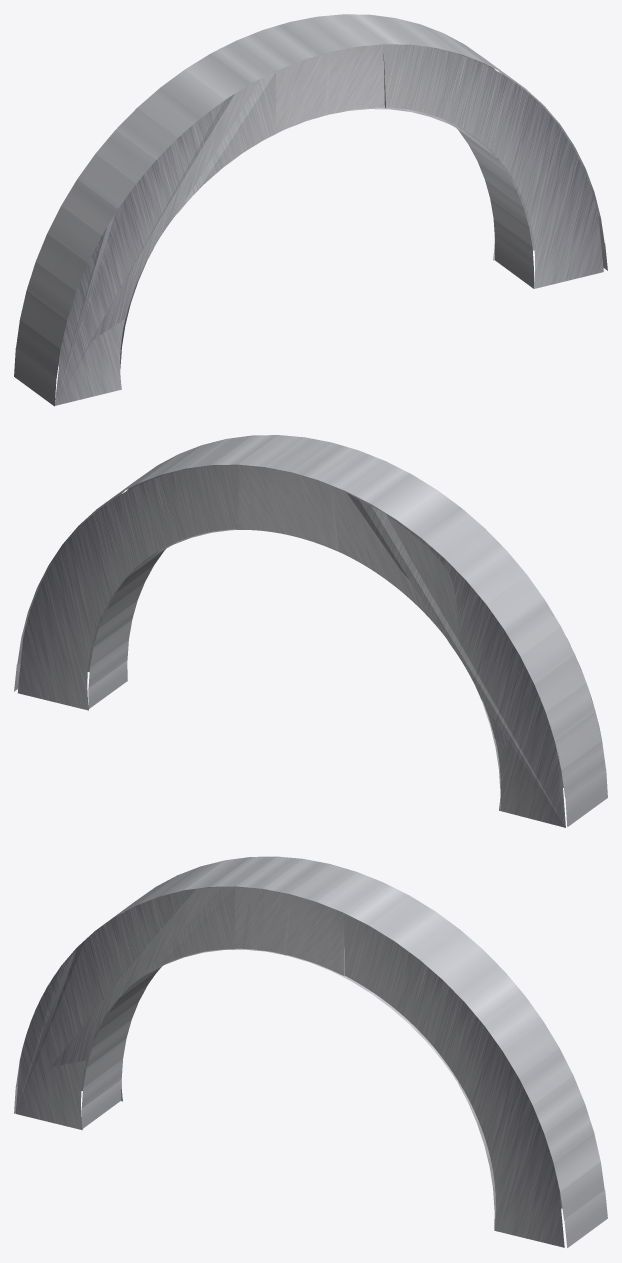
File: water_tube4.glb
The picture shows the model from 3 angles, top to bottom: view 1: azimuth 30°, elevation 25°; view 2: azimuth 150°, elevation 25°; view 3: azimuth 330°, elevation 25°; orthographic projection.
Visible parts, largest first — view 1: Circular saw blade_Material.001_0.023; view 2: Circular saw blade_Material.001_0.023; view 3: Circular saw blade_Material.001_0.023.
Part boxes in pixels (x1,y1,x2,y2): Circular saw blade_Material.001_0.023: [14, 14, 607, 406]; Circular saw blade_Material.001_0.023: [14, 435, 607, 827]; Circular saw blade_Material.001_0.023: [14, 856, 607, 1247].
Bounding box in the file's own units: 16.67 × 8.29 × 2.2.
4 materials, 4 textured.
